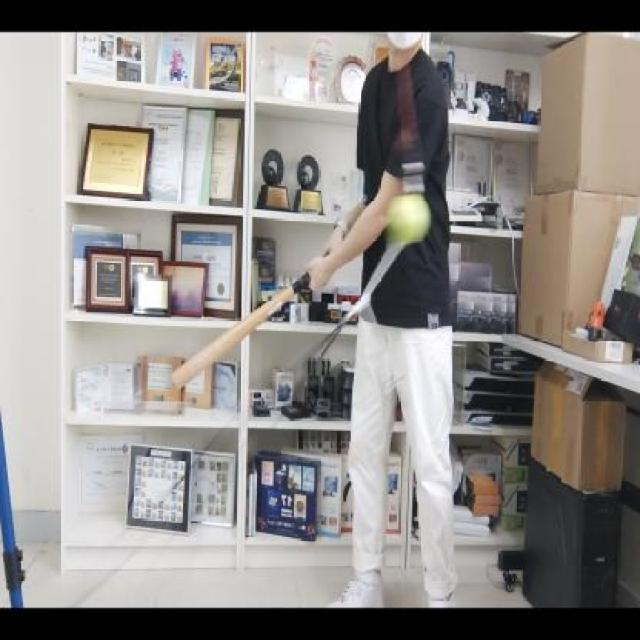baseball: (381, 192, 433, 246)
